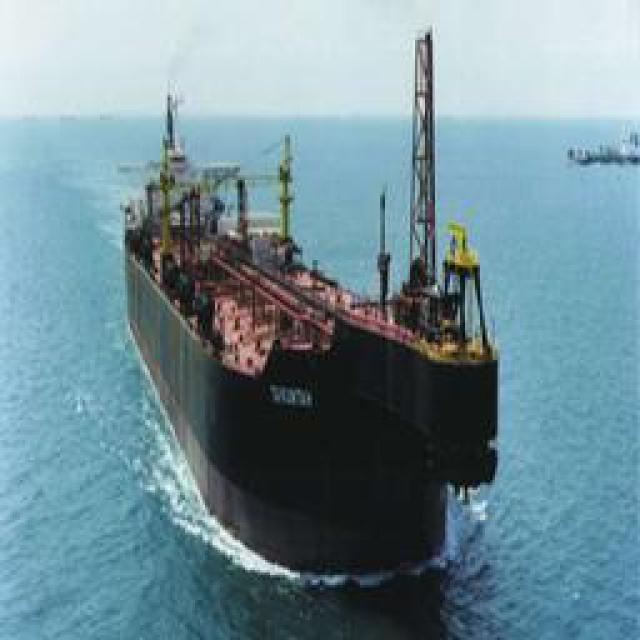Ship: (127, 29, 510, 602)
